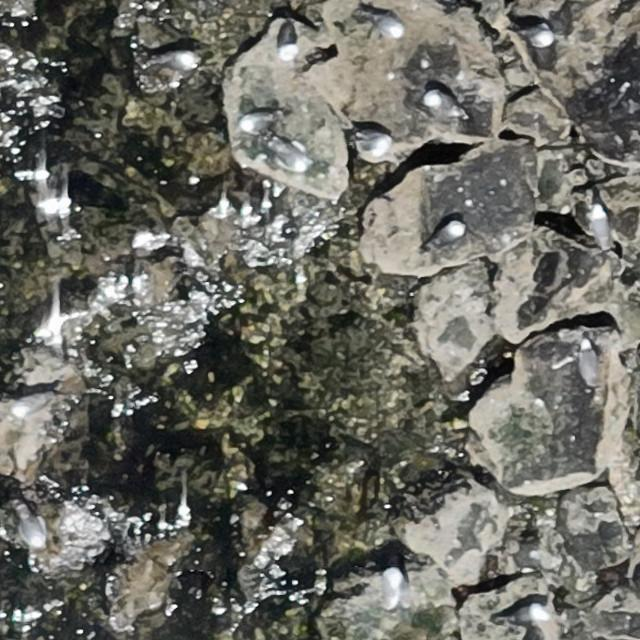umineko: (576, 334, 599, 392), (381, 563, 409, 609), (504, 602, 550, 625), (275, 145, 310, 171), (357, 130, 392, 154), (22, 514, 46, 548), (426, 92, 457, 116), (156, 51, 194, 70), (589, 208, 608, 245), (374, 15, 403, 38), (434, 222, 464, 244), (242, 114, 273, 133), (279, 28, 295, 59), (530, 27, 555, 46)
